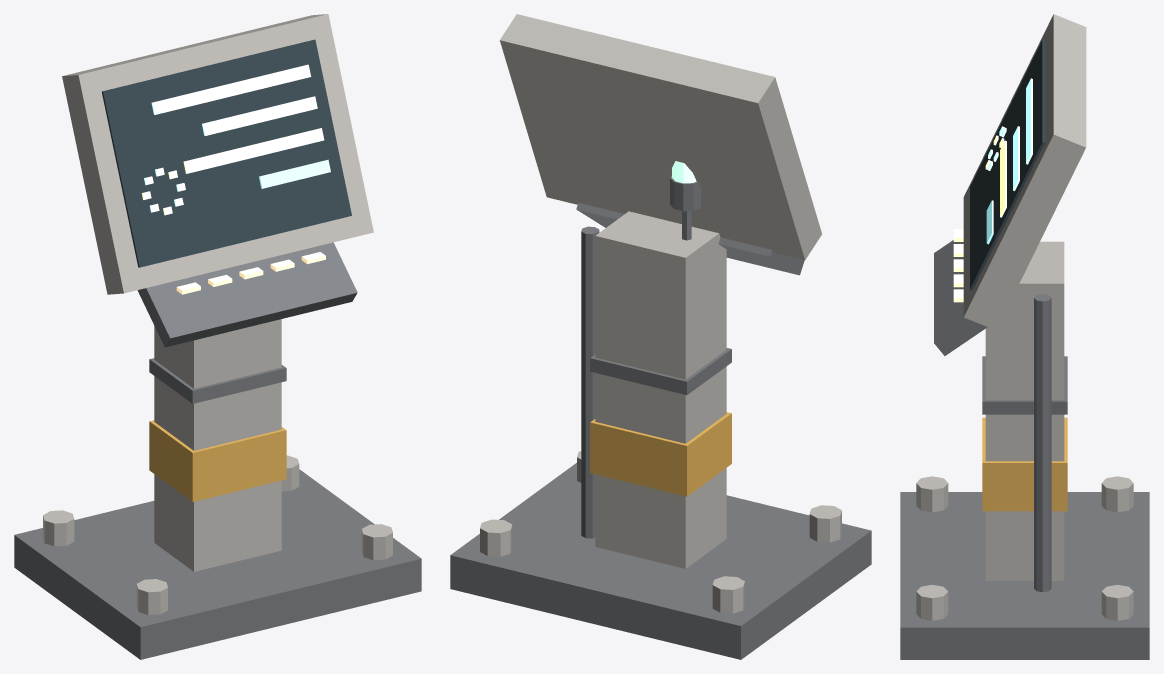
File: quay-terminal.glb
The picture shows the model from 3 angles, left to right: view 1: azimuth 30°, elevation 25°; view 2: azimuth 150°, elevation 25°; view 3: azimuth 270°, elevation 25°; orthographic projection. The views are drawn at different scales.
Visible parts, largest first — view 1: vantor_s0, vantor_s-1; view 2: vantor_s-1, vantor_s0; view 3: vantor_s0, vantor_s-1.
Part boxes in pixels (bbox=[...]): vantor_s0: bbox=[14, 14, 421, 659]; vantor_s-1: bbox=[43, 14, 327, 546]; vantor_s-1: bbox=[450, 14, 804, 659]; vantor_s0: bbox=[450, 77, 871, 659]; vantor_s0: bbox=[900, 14, 1149, 659]; vantor_s-1: bbox=[1026, 14, 1133, 620].
Size of the model in its own units: 0.9 by 1.6 by 0.7.
